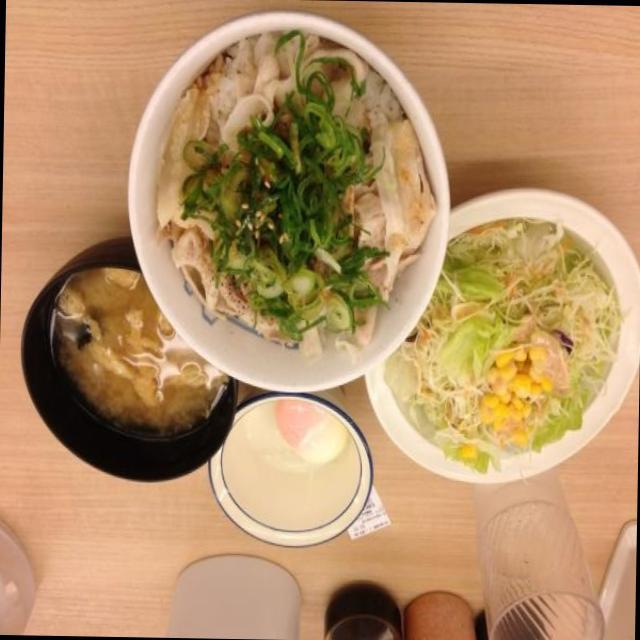Green Salad: (402, 238, 608, 466)
